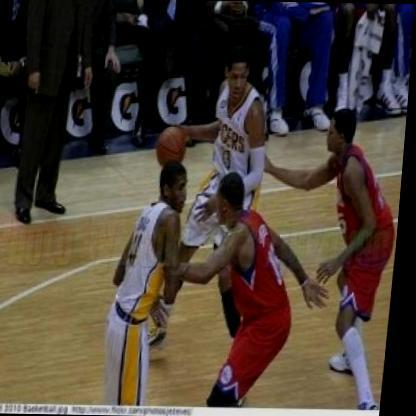basketball: (157, 125, 191, 168)
